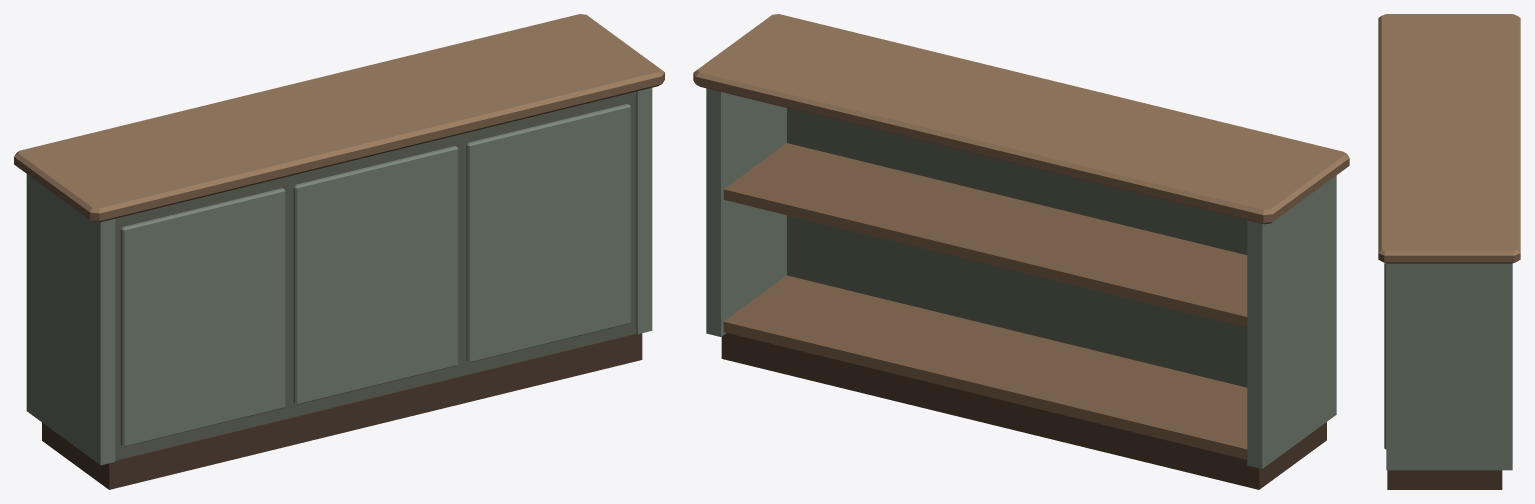
Rendered from Bell_FrontCounter.fbx.
3 views of the same model, side by side, from view 1: azimuth 30°, elevation 25°; view 2: azimuth 150°, elevation 25°; view 3: azimuth 270°, elevation 25° (orthographic). The views are drawn at different scales.
Visible parts, largest first — view 1: Bell_FrontCounter; view 2: Bell_FrontCounter; view 3: Bell_FrontCounter.
Boxes of the visible parts, <box> form: Bell_FrontCounter: <box>14,14,664,489</box>; Bell_FrontCounter: <box>693,14,1349,489</box>; Bell_FrontCounter: <box>1378,14,1520,489</box>.
Bounding box in the file's own units: 2.2 × 1.05 × 0.55.
